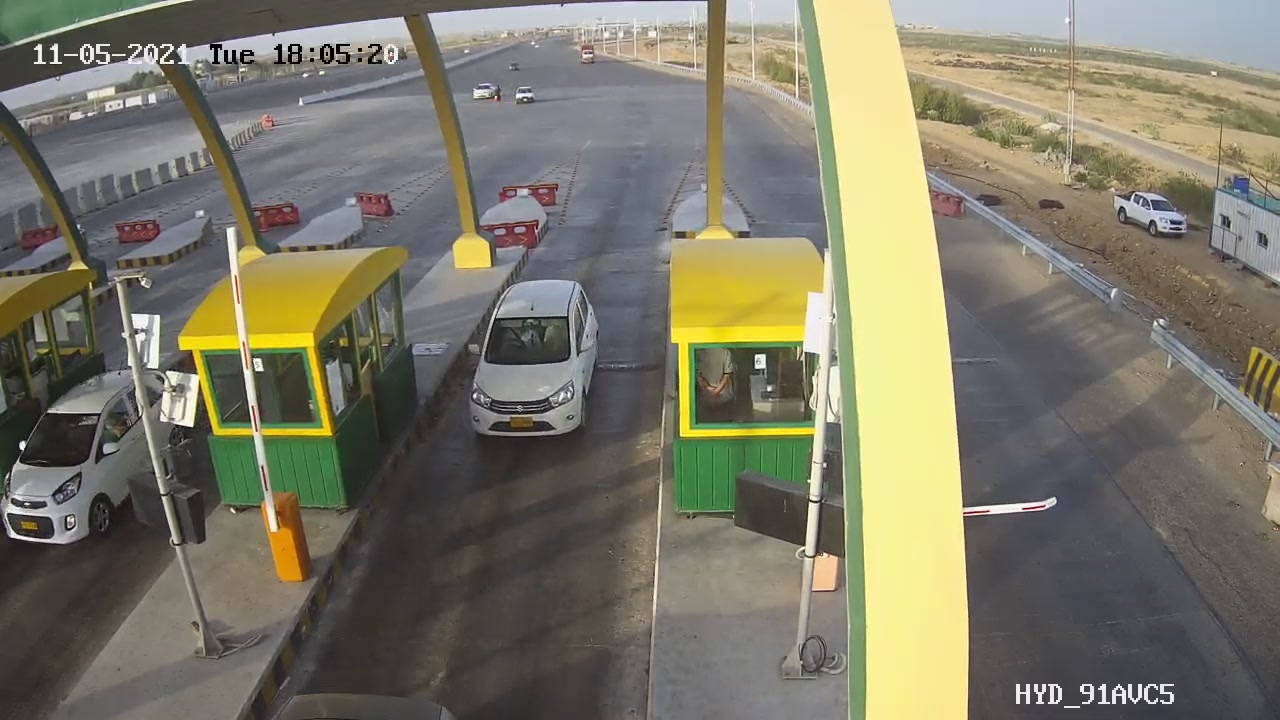F1: (452, 272, 612, 451)
